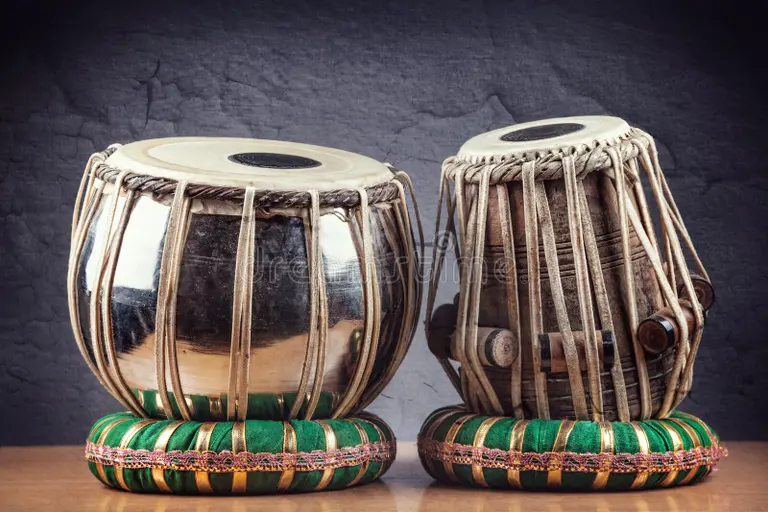tabla: (67, 137, 423, 415), (416, 116, 717, 423)
